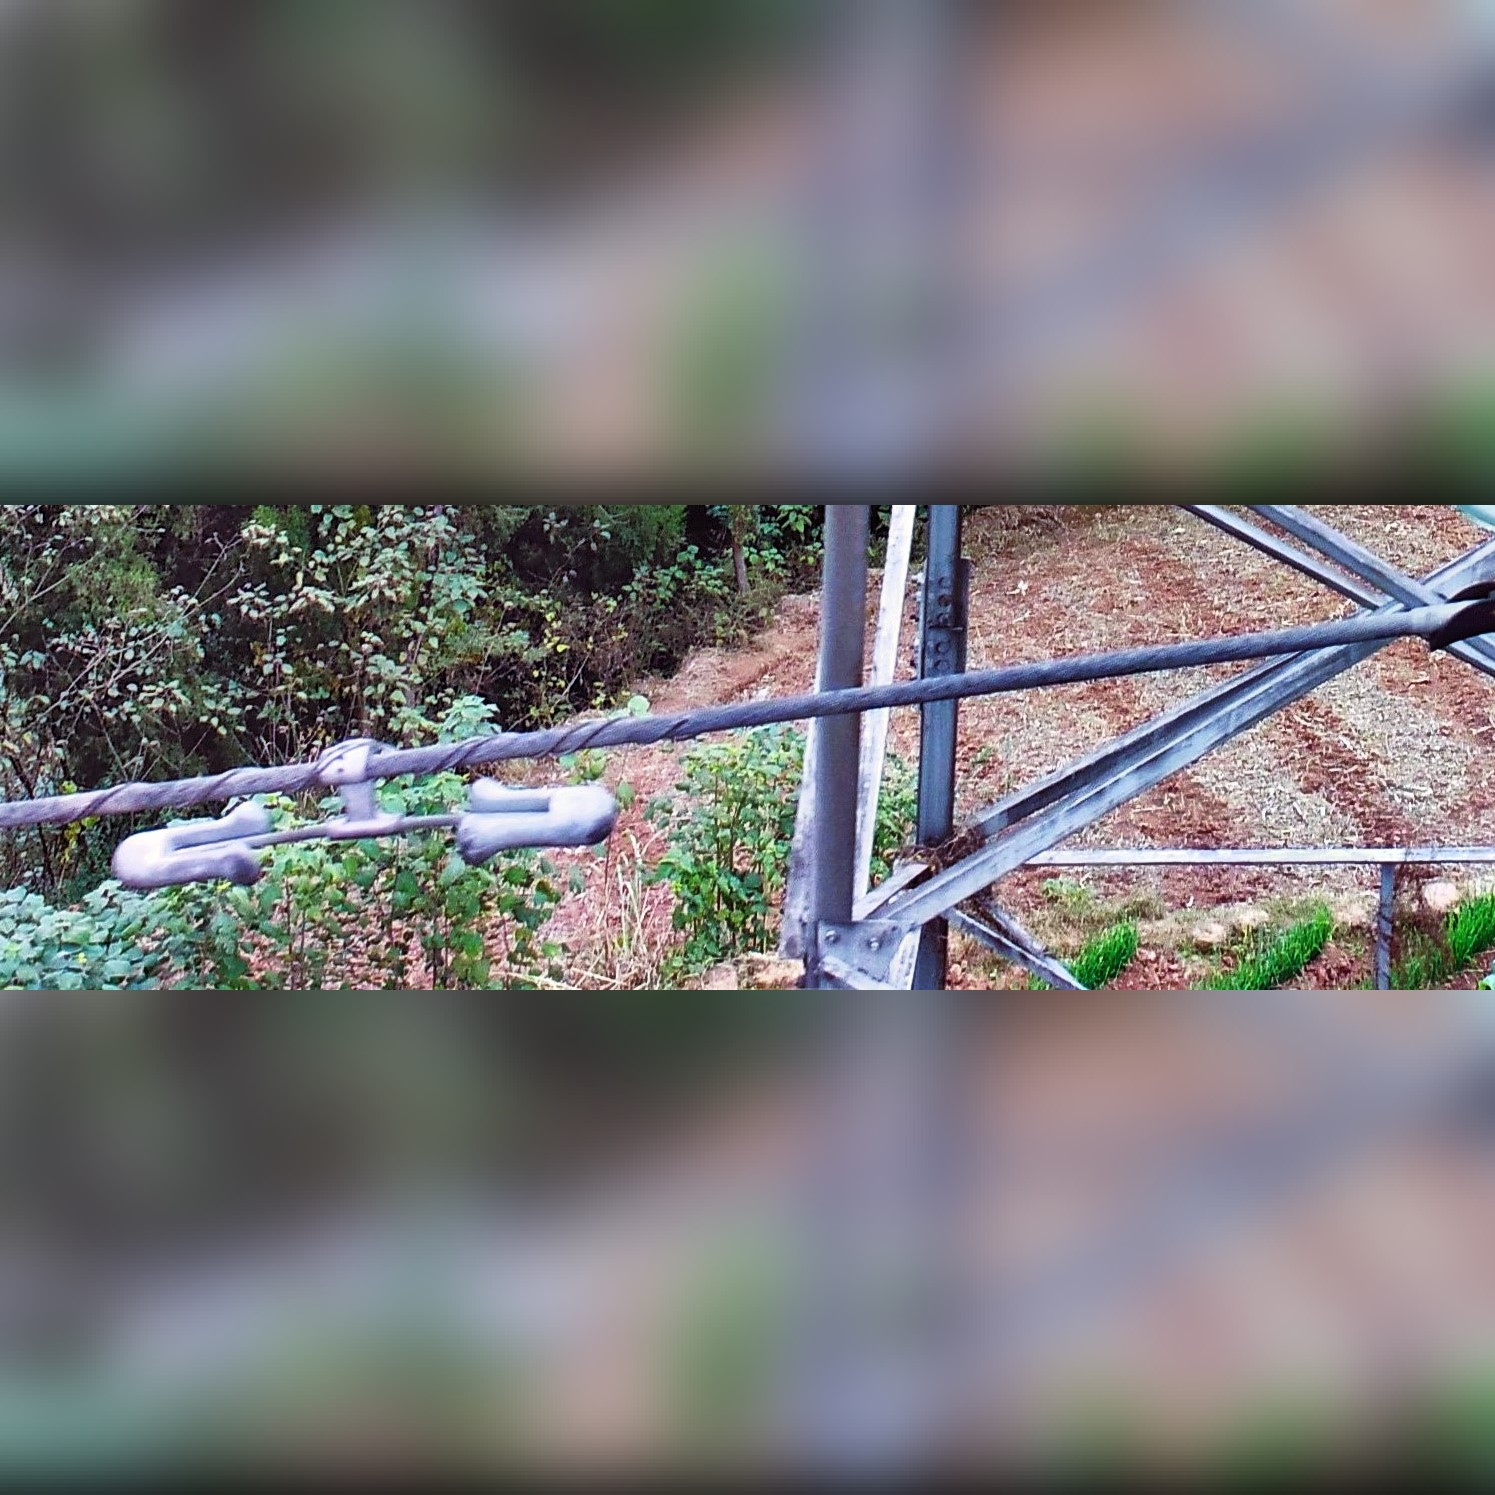Shockproof hammer: (89, 713, 638, 905)
